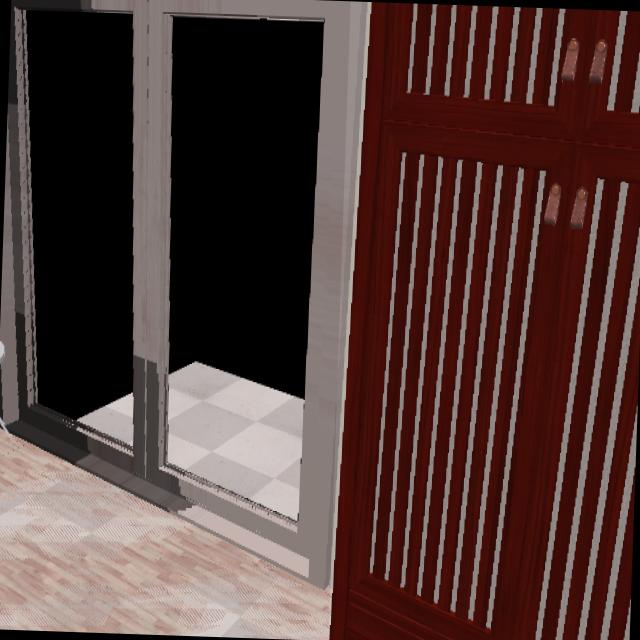wardrobe: (328, 1, 640, 640)
